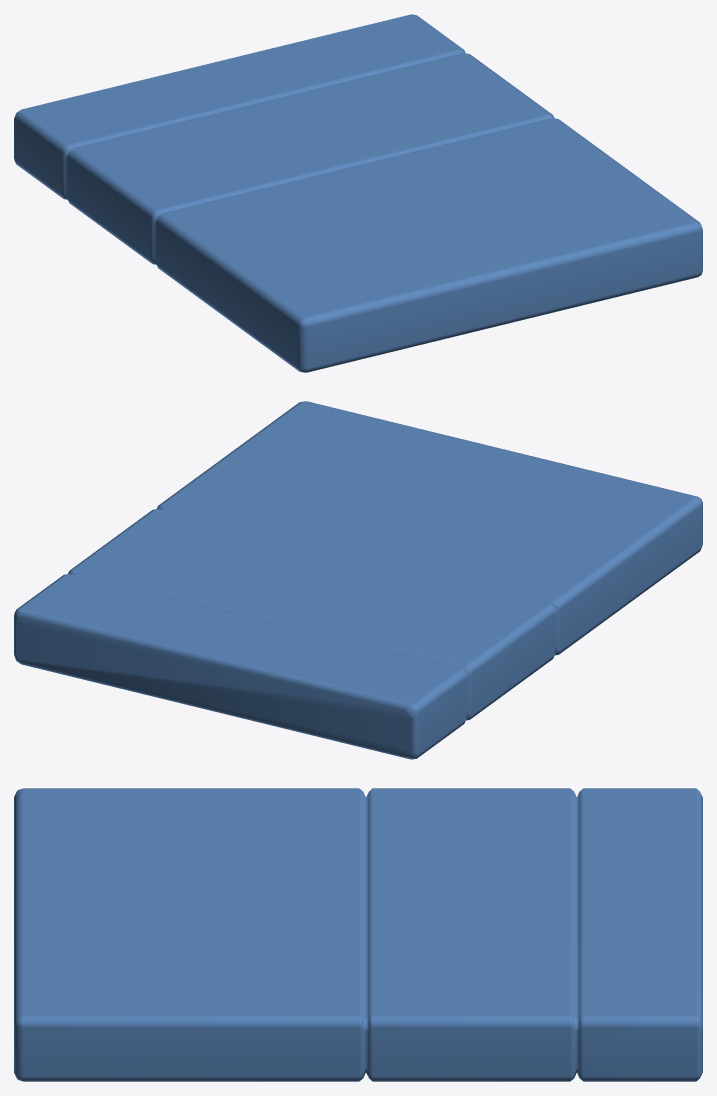
The model's file is bed2.fbx.
3 views of the same model, one above another, from view 1: azimuth 30°, elevation 25°; view 2: azimuth 150°, elevation 25°; view 3: azimuth 270°, elevation 25° (orthographic). The views are drawn at different scales.
Parts seen in each view (by area): view 1: SM_HospitalBed_02q_LOD0; view 2: SM_HospitalBed_02q_LOD0; view 3: SM_HospitalBed_02q_LOD0.
Part boxes in pixels (x1,y1,x2,y2): SM_HospitalBed_02q_LOD0: [14, 14, 702, 372]; SM_HospitalBed_02q_LOD0: [14, 401, 702, 759]; SM_HospitalBed_02q_LOD0: [14, 788, 702, 1081].
Bounding box in the file's own units: 94.34 × 12.39 × 117.
